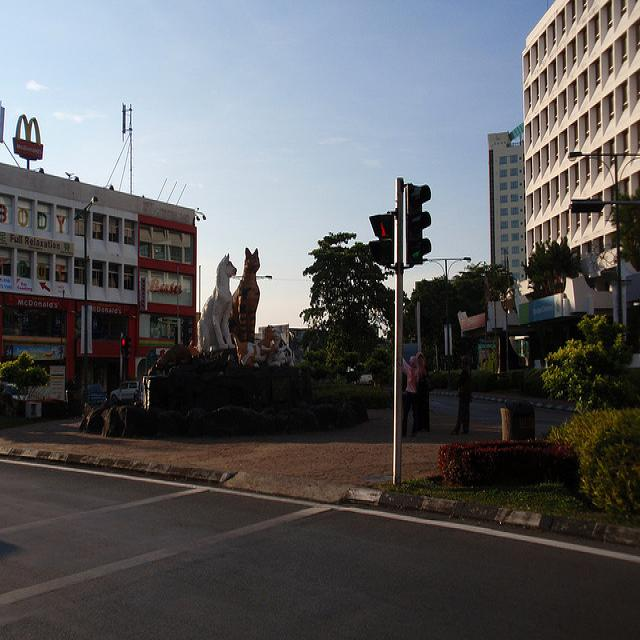Vehicle: (1, 383, 30, 419), (110, 378, 141, 404), (109, 381, 140, 402)
